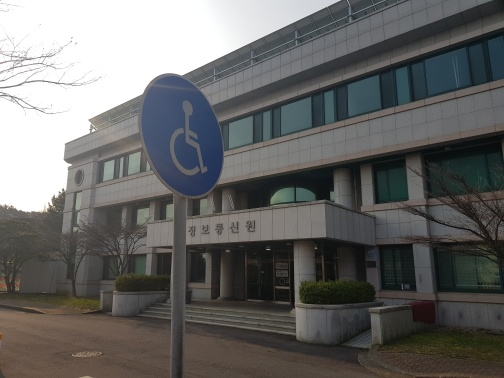Information Telecommunication Center: (211, 255, 339, 308), (188, 213, 282, 247)
